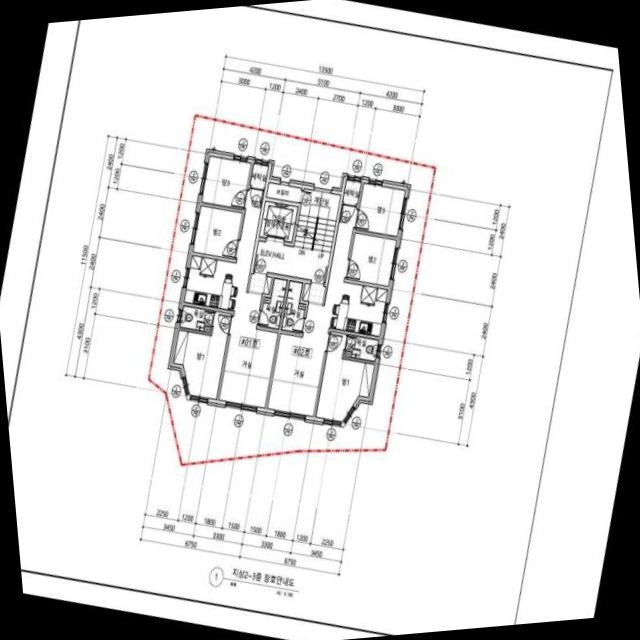background: (0, 0, 640, 640)
space_bedroom: (315, 331, 373, 421), (173, 311, 230, 398), (192, 205, 241, 258), (346, 232, 395, 285), (201, 156, 250, 208), (355, 183, 404, 235)
space_elevator: (258, 201, 296, 241)
space_elevator_hall: (253, 240, 329, 281)
space_front: (248, 272, 271, 293), (302, 282, 324, 303)
space_kitchen: (183, 255, 235, 309), (334, 282, 386, 335)
space_living_room: (267, 204, 356, 415), (218, 188, 277, 407)
space_other: (265, 182, 300, 202), (342, 180, 360, 203), (249, 163, 267, 186)
space_staircase: (293, 188, 339, 253)
space_toilet: (259, 278, 286, 328), (281, 281, 303, 332), (179, 305, 212, 330), (345, 335, 377, 360)
